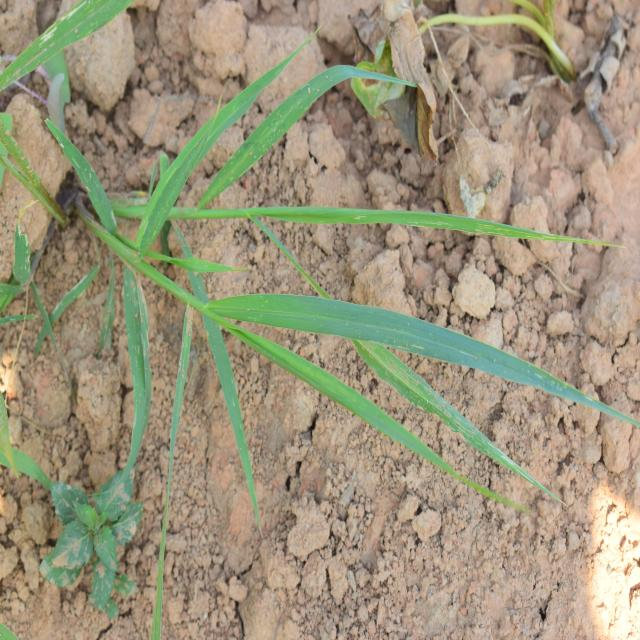green_foxtail: (77, 99, 534, 515)
